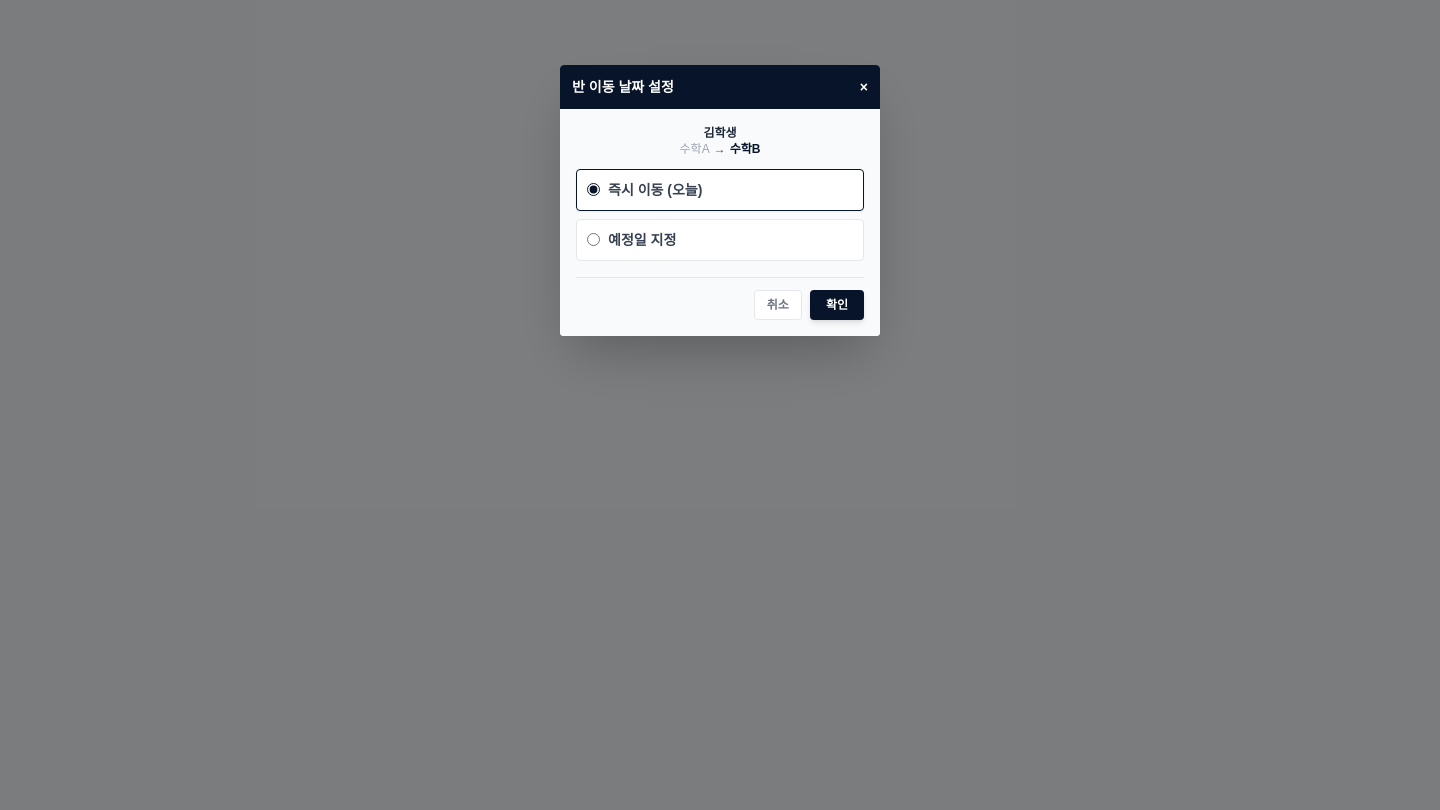
ScheduledDateModal › 예정일 지정 모드 › 예정일 지정을 선택하면 date input이 나타난다
// 예정일 지정 라디오 클릭
Click the text "예정일 지정": [642, 240] box left=608, top=230, right=676, bottom=250
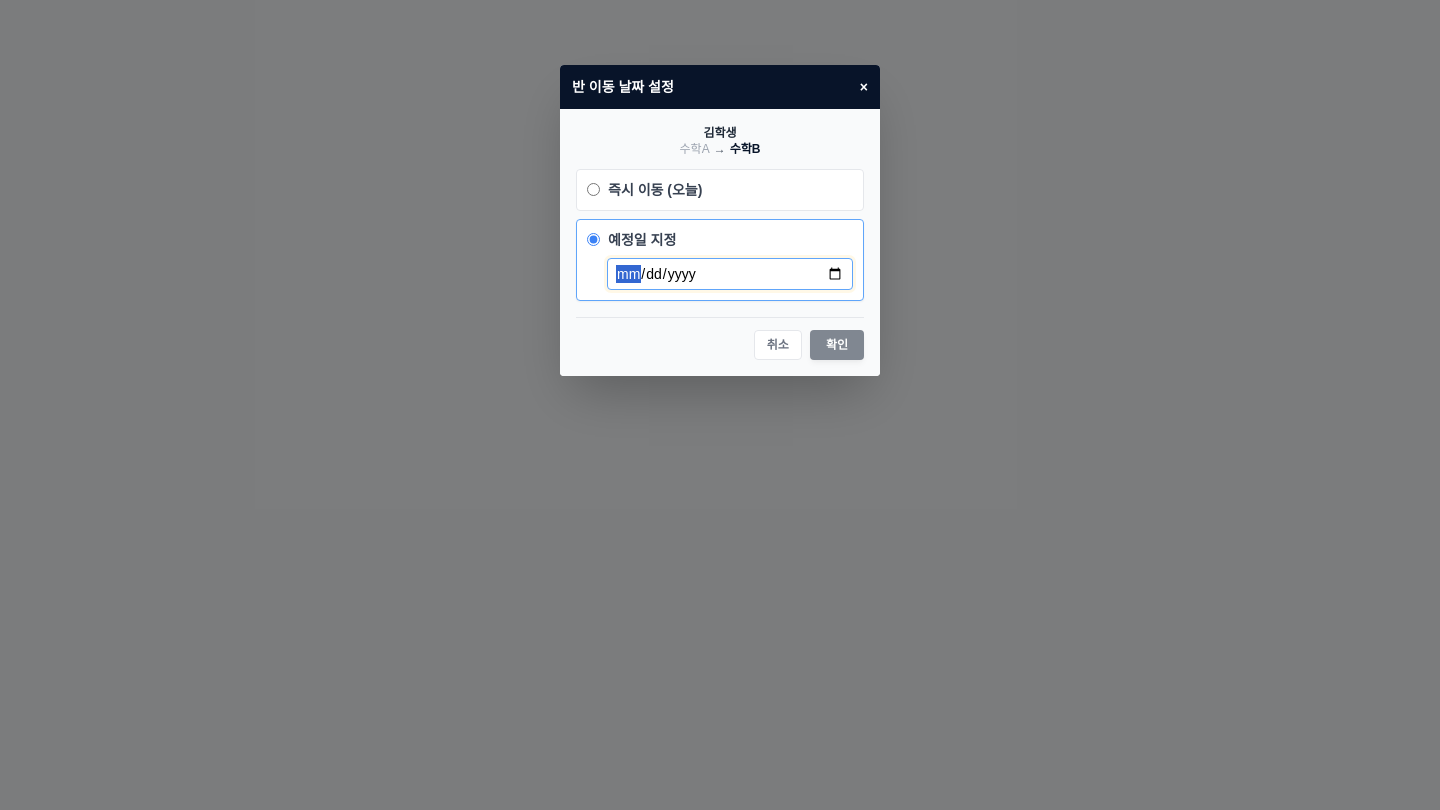
Result: the date field is shown at left=607, top=258, right=853, bottom=290
